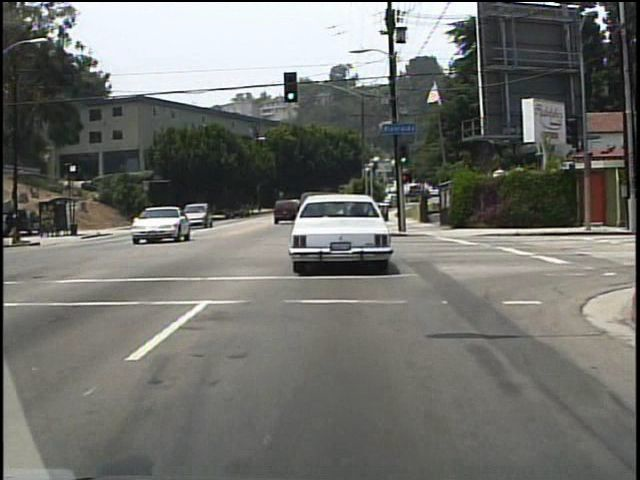person: (152, 210, 161, 228)
